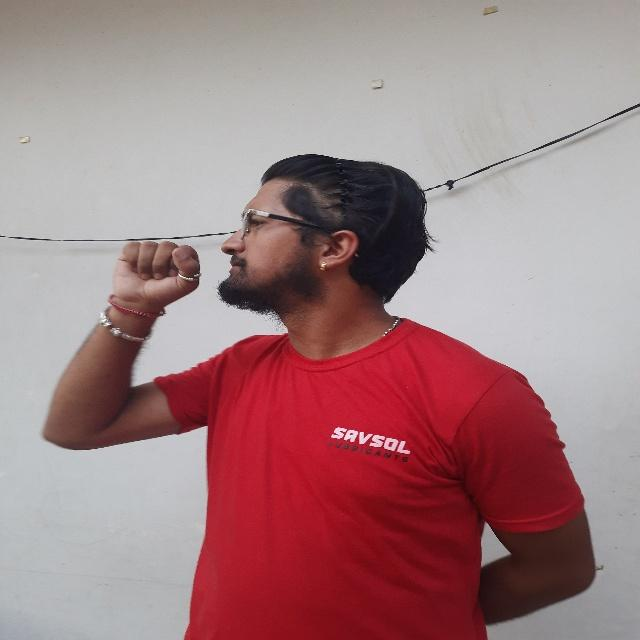Fist Mouth: (102, 145, 404, 348)
